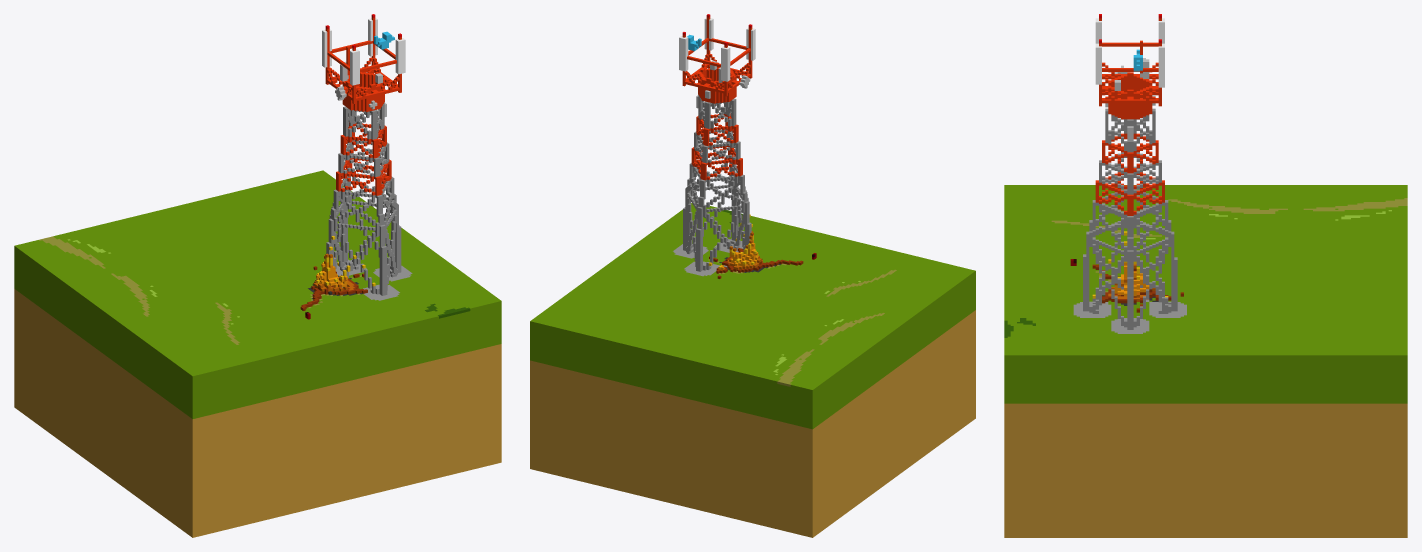
3 renders of one model, left to right at view 1: azimuth 30°, elevation 25°; view 2: azimuth 150°, elevation 25°; view 3: azimuth 270°, elevation 25°, orthographic. The views are drawn at different scales.
Parts seen in each view (by area): view 1: 5G; view 2: 5G; view 3: 5G.
Part boxes in pixels (x1=…): 5G: x1=14, y1=14, x2=501, y2=537; 5G: x1=530, y1=14, x2=975, y2=537; 5G: x1=1004, y1=14, x2=1407, y2=537.
Size of the model in its own units: 12.8 by 16.3 by 12.8.
1 material, 1 textured.
